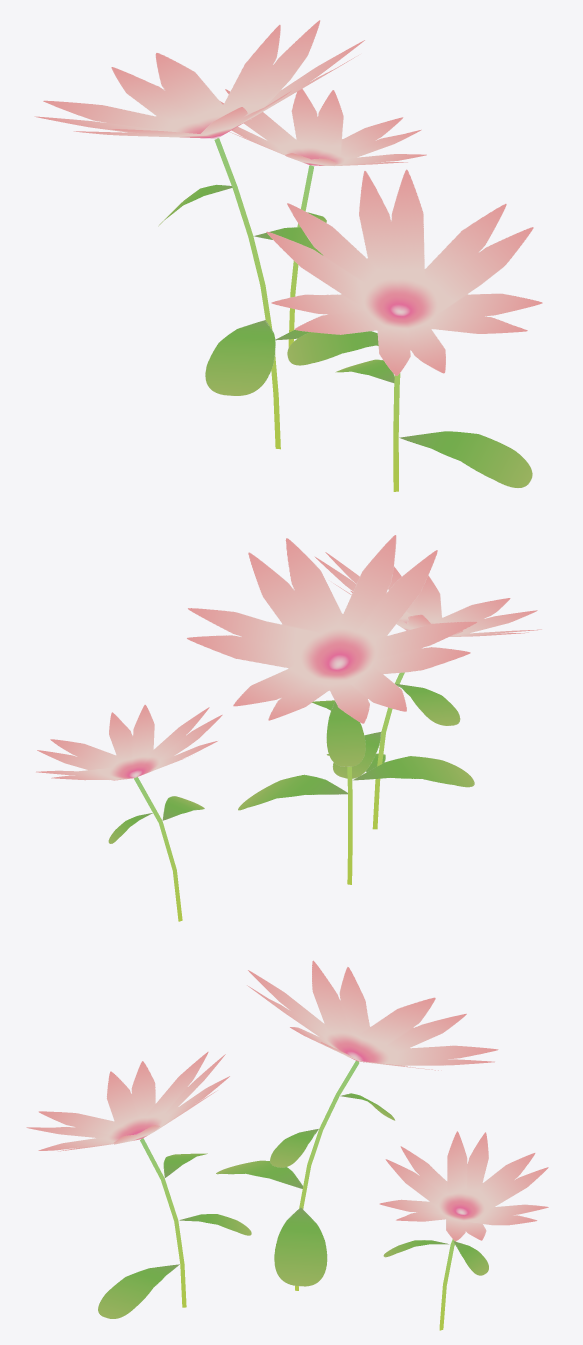
File: SM_Env_Flower_C1_1.fbx
3 views of the same model, one above another, from view 1: azimuth 30°, elevation 25°; view 2: azimuth 150°, elevation 25°; view 3: azimuth 270°, elevation 25° (orthographic). The views are drawn at different scales.
Visible parts, largest first — view 1: Env_Flower_C1_1; view 2: Env_Flower_C1_1; view 3: Env_Flower_C1_1.
Boxes of the visible parts, bbox=[...] form: Env_Flower_C1_1: bbox=[34, 20, 542, 491]; Env_Flower_C1_1: bbox=[36, 535, 541, 921]; Env_Flower_C1_1: bbox=[26, 960, 548, 1330].
Size of the model in its own units: 2.89 by 2.38 by 3.92.
